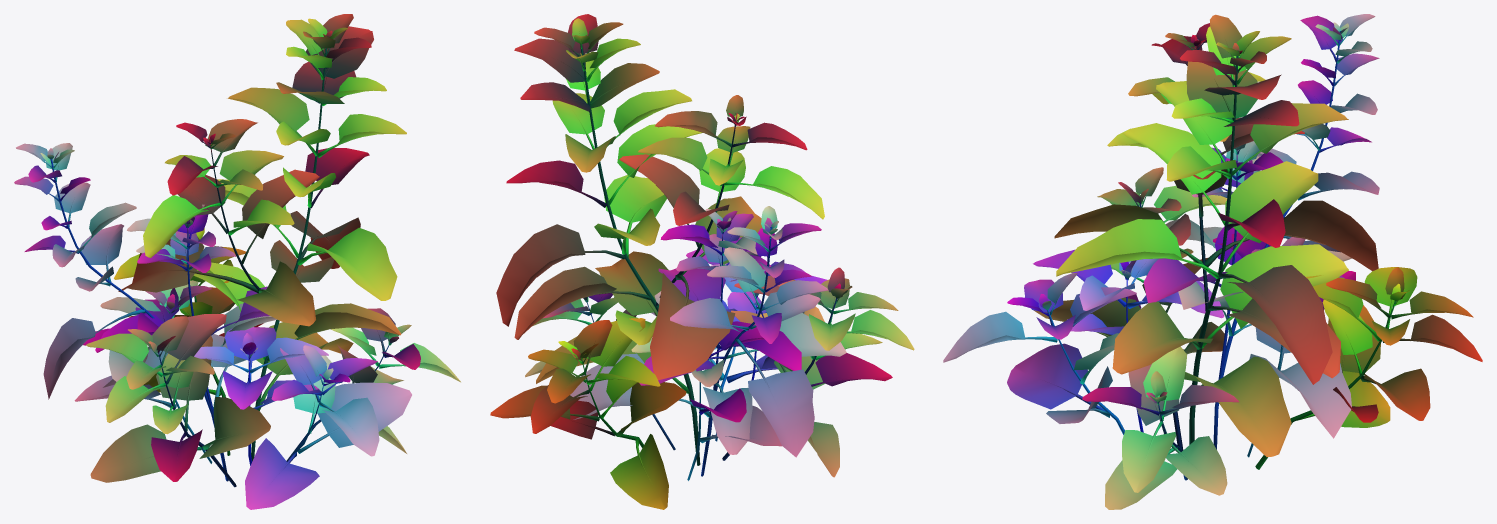
Rendered from Lemon_Balm_umslacdia_Mid_umslacdia_VarB_LOD1.fbx.
3 renders of one model, left to right at view 1: azimuth 30°, elevation 25°; view 2: azimuth 150°, elevation 25°; view 3: azimuth 270°, elevation 25°, orthographic. The views are drawn at different scales.
Visible parts, largest first — view 1: _utyo_VarB_LOD3; view 2: _utyo_VarB_LOD3; view 3: _utyo_VarB_LOD3.
Part boxes in pixels (<box>): _utyo_VarB_LOD3: <box>14,14,460,509</box>; _utyo_VarB_LOD3: <box>490,14,914,509</box>; _utyo_VarB_LOD3: <box>943,14,1482,509</box>.
Size of the model in its own units: 66.27 by 73.86 by 73.04.
